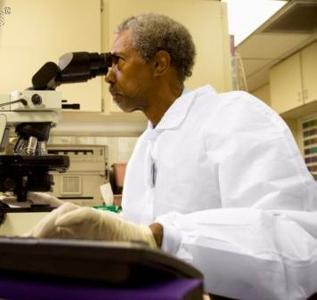person: (4, 13, 316, 300)
